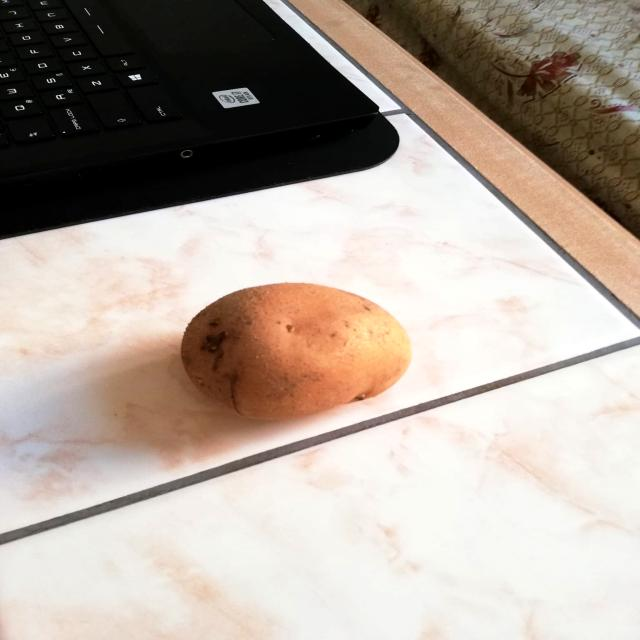potato: (174, 281, 422, 424)
